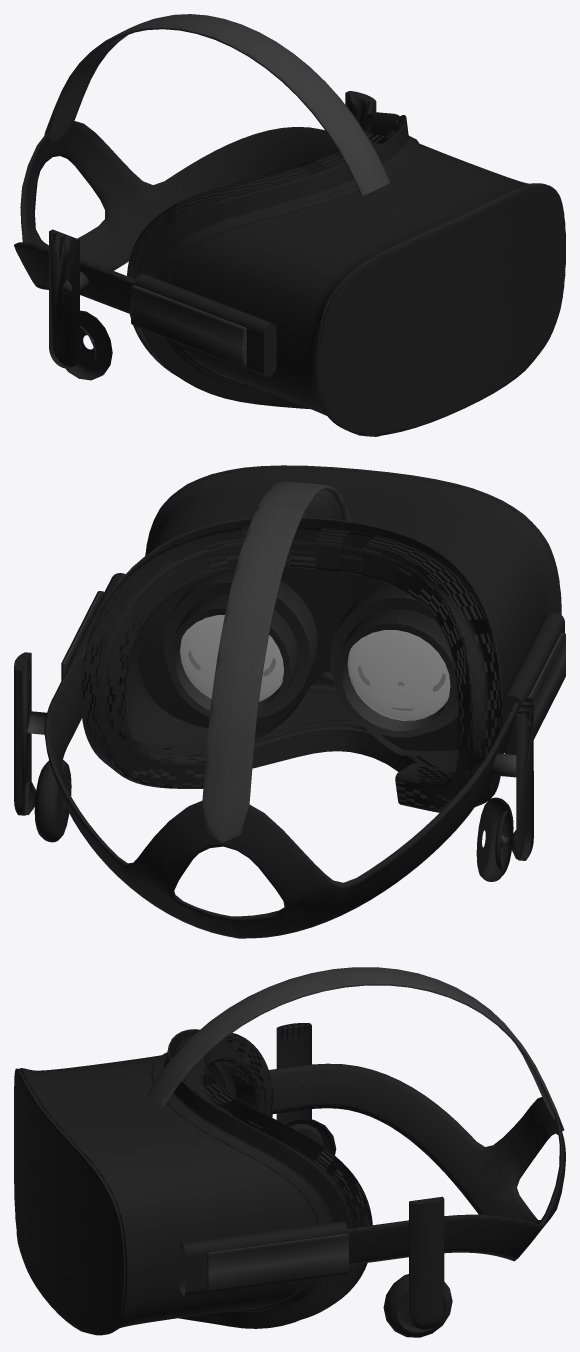
3 renders of one model, top to bottom at view 1: azimuth 30°, elevation 25°; view 2: azimuth 150°, elevation 25°; view 3: azimuth 270°, elevation 25°, orthographic. The views are drawn at different scales.
Visible parts, largest first — view 1: 3DSMeshMatrix (×10); view 2: 3DSMeshMatrix (×20); view 3: 3DSMeshMatrix (×11).
Boxes of the visible parts, x1=… form: 3DSMeshMatrix (×10): x1=14, y1=14, x2=565, y2=436; 3DSMeshMatrix (×20): x1=14, y1=465, x2=565, y2=938; 3DSMeshMatrix (×11): x1=14, y1=967, x2=565, y2=1337.
Bounding box in the file's own units: 180 × 125 × 209.
2 materials, 2 textured.
